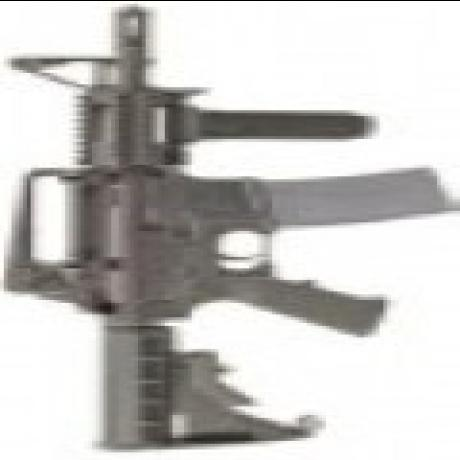weapon: (7, 8, 459, 460)
